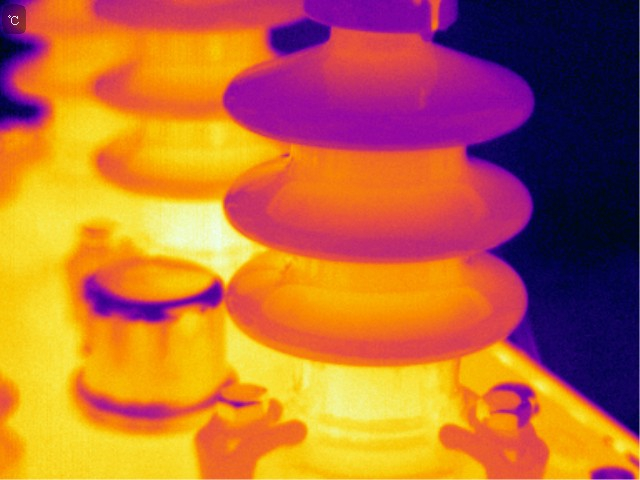Oil: (427, 1, 440, 33)
